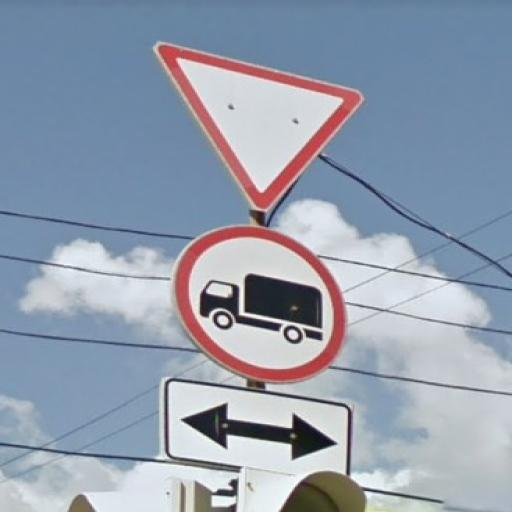traffic_sign: (154, 43, 366, 216), (173, 226, 351, 381)
